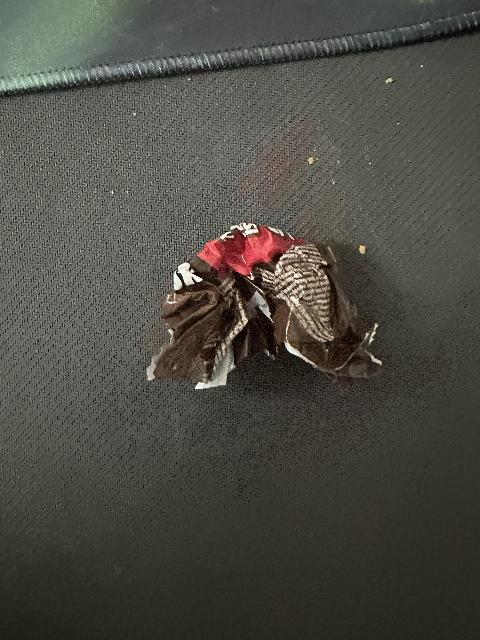Plastik: (146, 235, 389, 392)
